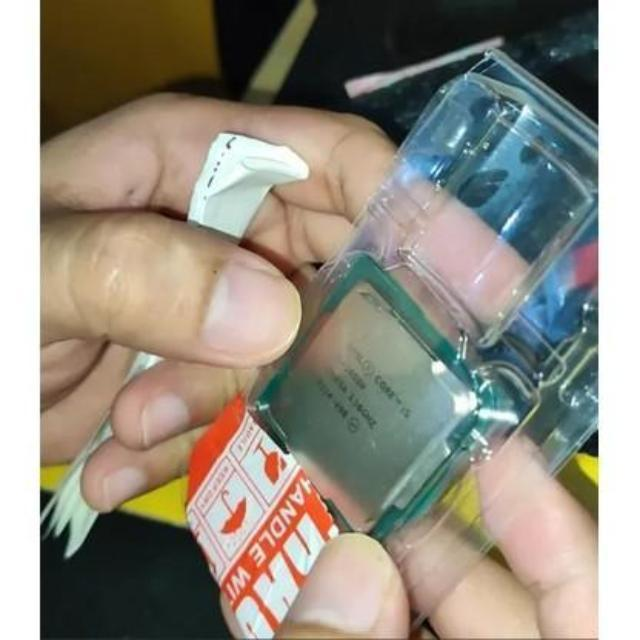CPU: (245, 269, 484, 546)
